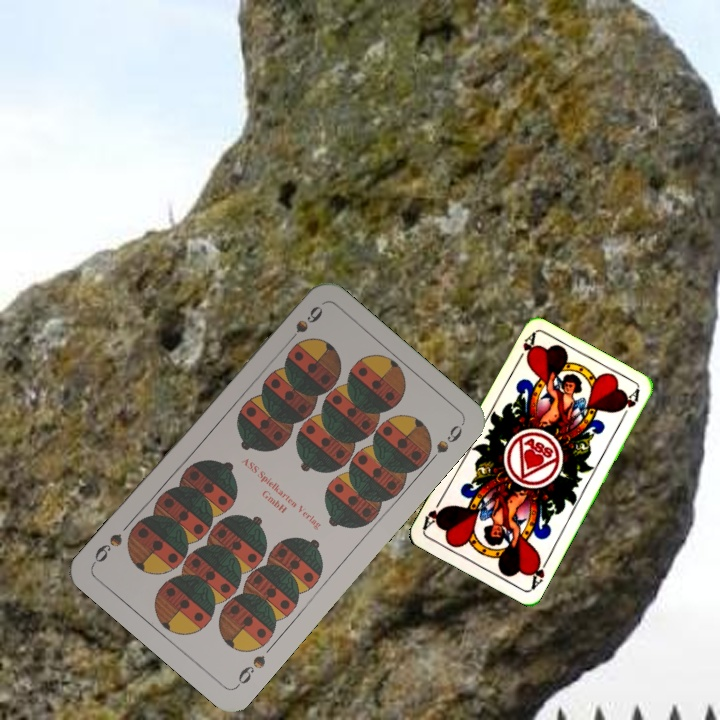HA: (526, 553, 552, 592), (512, 330, 538, 367)
S9: (280, 301, 326, 350), (232, 651, 268, 690)
